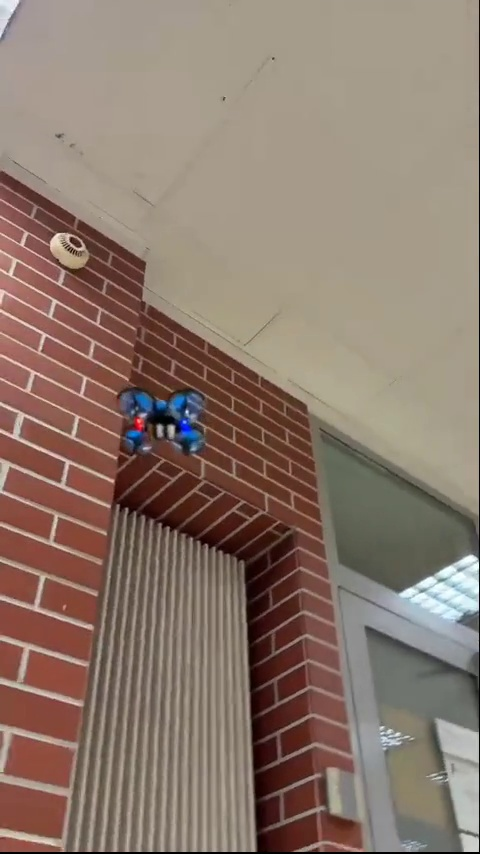drone: (117, 387, 207, 458)
